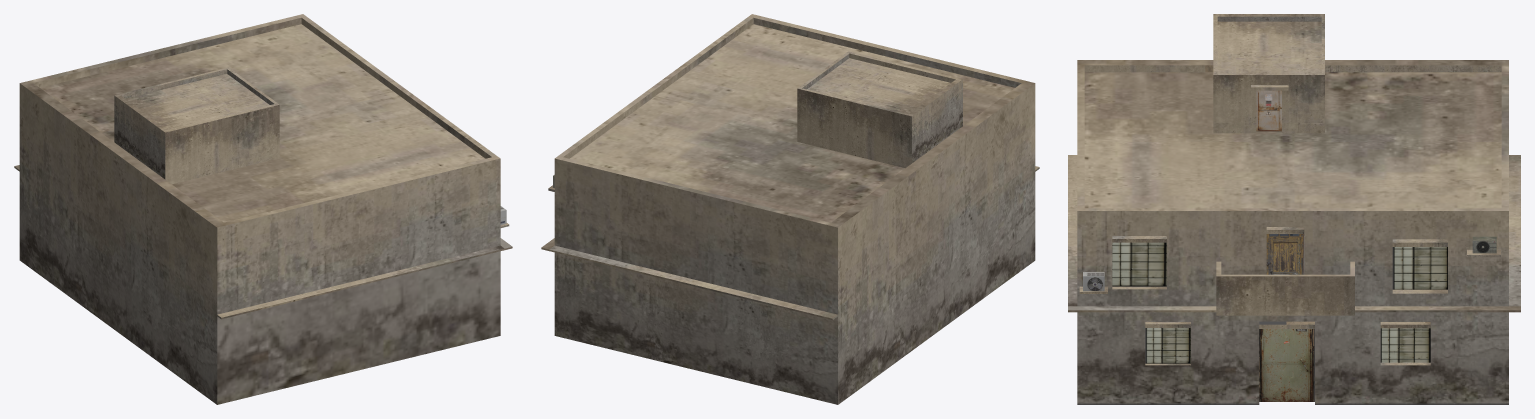
3 views of the same model, side by side, from view 1: azimuth 30°, elevation 25°; view 2: azimuth 150°, elevation 25°; view 3: azimuth 270°, elevation 25° (orthographic). The views are drawn at different scales.
Visible parts, largest first — view 1: Model; view 2: Model; view 3: Model.
Boxes of the visible parts, bbox=[...] form: Model: bbox=[14, 14, 512, 404]; Model: bbox=[541, 14, 1039, 404]; Model: bbox=[1068, 14, 1520, 404].
Bounding box in the file's own units: 162 × 112 × 187.
